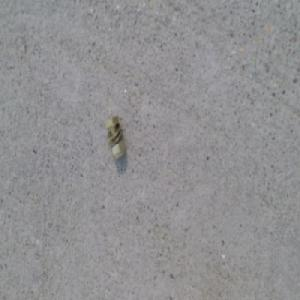BoltNutSet: (105, 118, 125, 161)
